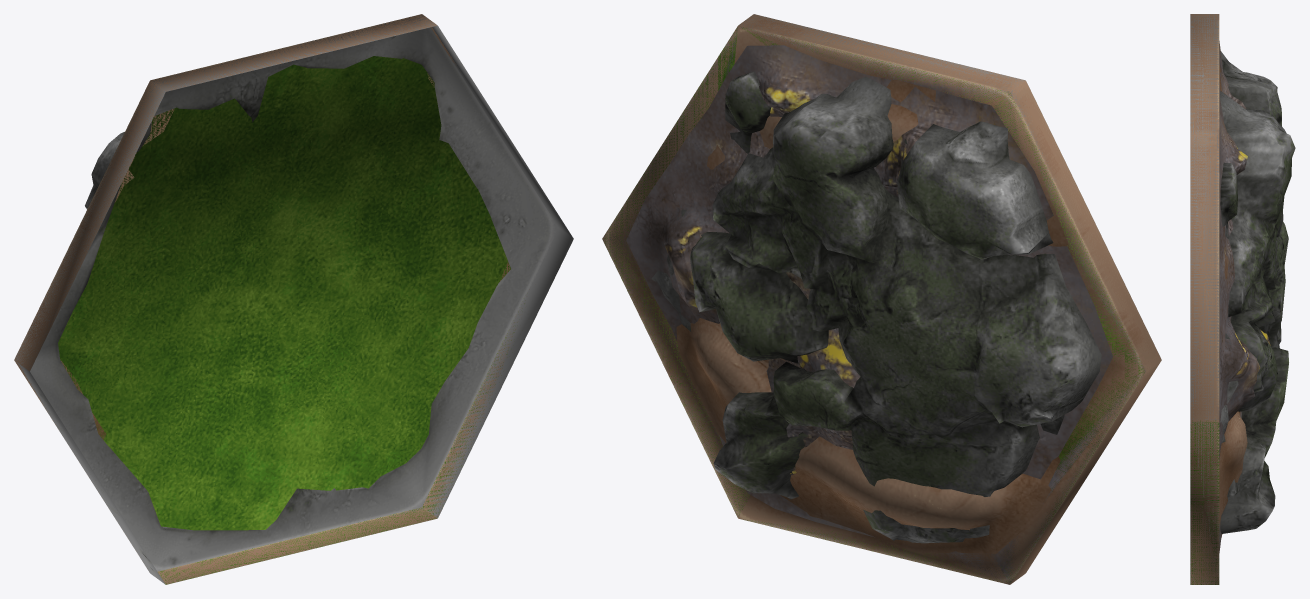
Rendered from hexlands-selected.glb.
The picture shows the model from 3 angles, left to right: view 1: azimuth 30°, elevation 25°; view 2: azimuth 150°, elevation 25°; view 3: azimuth 270°, elevation 25°; orthographic projection. The views are drawn at different scales.
Parts seen in each view (by area): view 1: Object_9, Object_11, Object_2; view 2: Object_11, Object_2, Object_6, Object_9; view 3: Object_11, Object_2, Object_6, Object_9.
Part boxes in pixels (x1=…): Object_9: x1=58, y1=56, x2=524, y2=584; Object_11: x1=15, y1=14, x2=573, y2=584; Object_2: x1=14, y1=14, x2=529, y2=584; Object_11: x1=651, y1=14, x2=1159, y2=543; Object_2: x1=602, y1=14, x2=1161, y2=584; Object_6: x1=602, y1=27, x2=1145, y2=584; Object_9: x1=605, y1=27, x2=1144, y2=582; Object_11: x1=1190, y1=14, x2=1295, y2=584; Object_2: x1=1190, y1=14, x2=1247, y2=584; Object_6: x1=1219, y1=41, x2=1270, y2=552; Object_9: x1=1190, y1=420, x2=1219, y2=584.
Size of the model in its own units: 1.9 by 1.65 by 0.3487.
4 materials, 4 textured.
